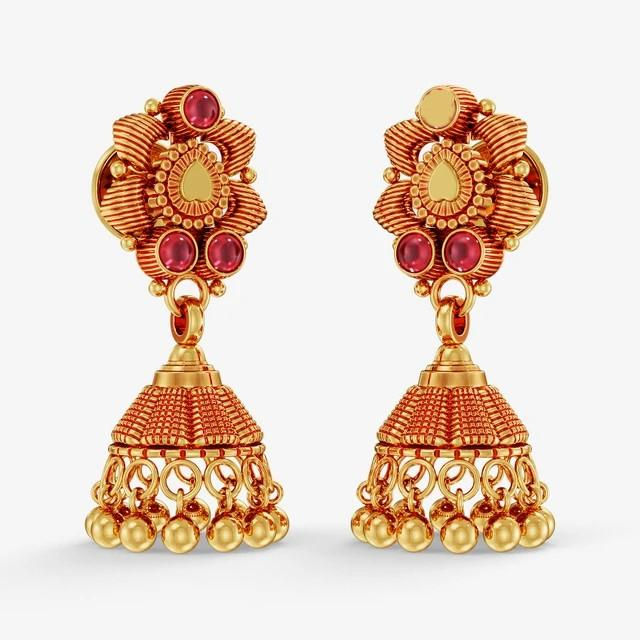missing gem: (420, 88, 457, 129)
